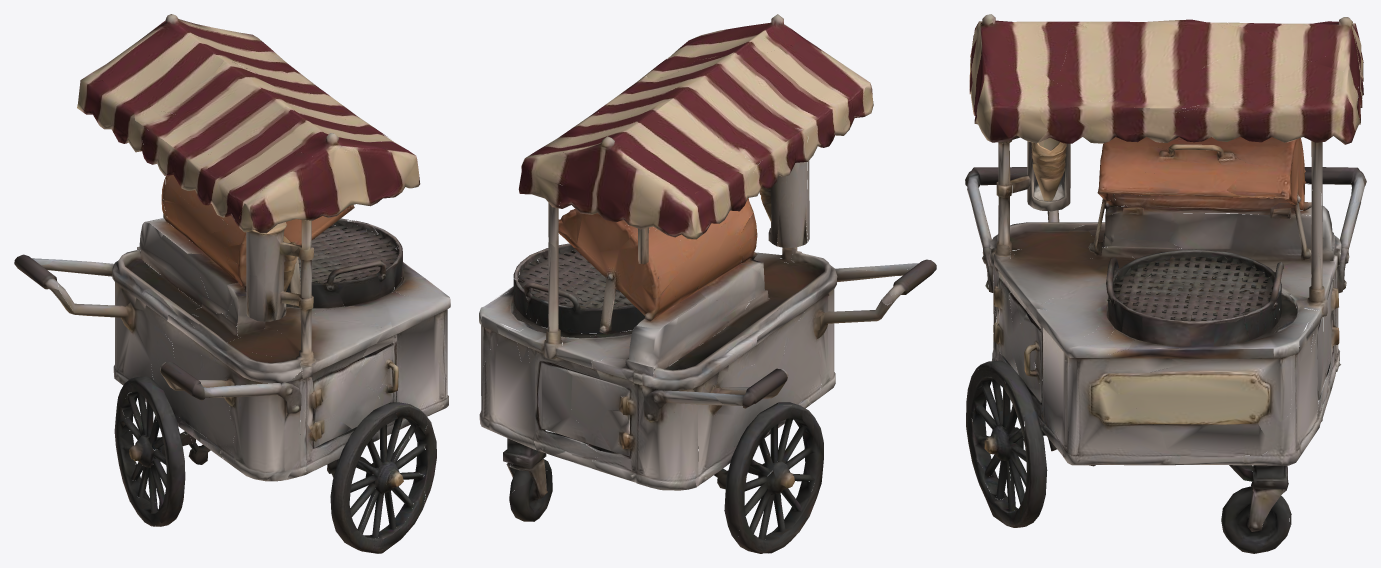
The model's file is lt_chestnut.glb.
3 renders of one model, left to right at view 1: azimuth 30°, elevation 25°; view 2: azimuth 150°, elevation 25°; view 3: azimuth 270°, elevation 25°, orthographic. The views are drawn at different scales.
Visible parts, largest first — view 1: tripo_node_8422e356-3353-42ae-9ead-f4a3cbadc519; view 2: tripo_node_8422e356-3353-42ae-9ead-f4a3cbadc519; view 3: tripo_node_8422e356-3353-42ae-9ead-f4a3cbadc519.
Boxes of the visible parts, left/top/right/bottom form: tripo_node_8422e356-3353-42ae-9ead-f4a3cbadc519: left=14, top=14, right=450, bottom=553; tripo_node_8422e356-3353-42ae-9ead-f4a3cbadc519: left=479, top=14, right=936, bottom=553; tripo_node_8422e356-3353-42ae-9ead-f4a3cbadc519: left=965, top=14, right=1366, bottom=553.
Size of the model in its own units: 0.7449 by 1 by 0.7682.
Materials: 1 (1 with a texture image).
